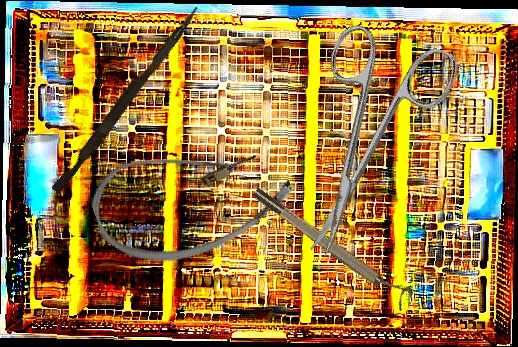Cannula: (81, 112, 303, 284)
Fixation Ring: (249, 178, 416, 312)
Iris Scissors: (257, 11, 464, 276)
Pusher: (51, 0, 201, 198)
